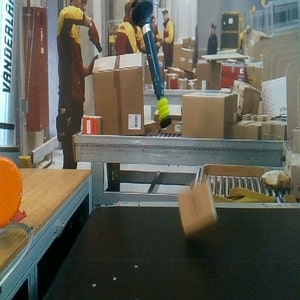box: (176, 178, 220, 238)
